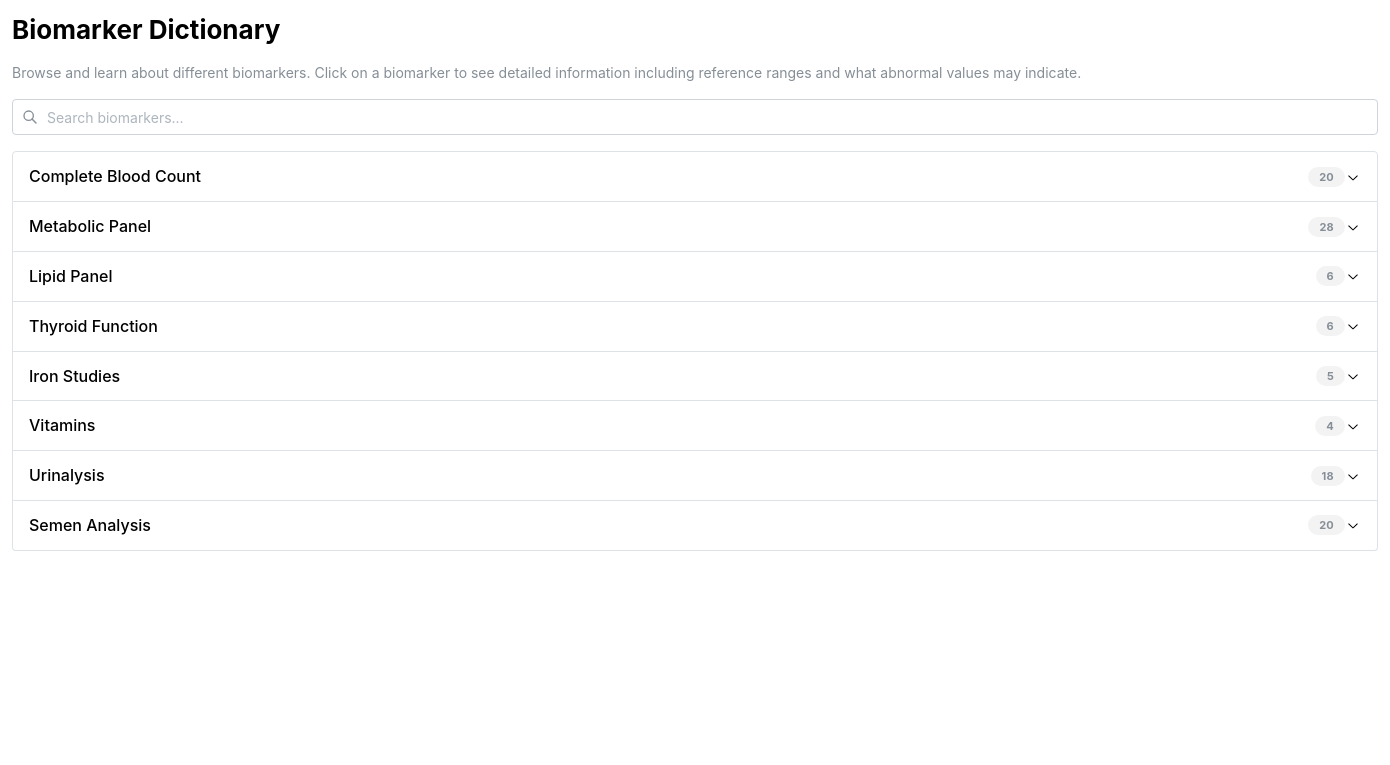
Test case: BiomarkerDictionary › category browsing › should expand category when clicked
# Click on CBC category
Click the text "Complete Blood Count" at (115, 177), box [29,164,201,189]
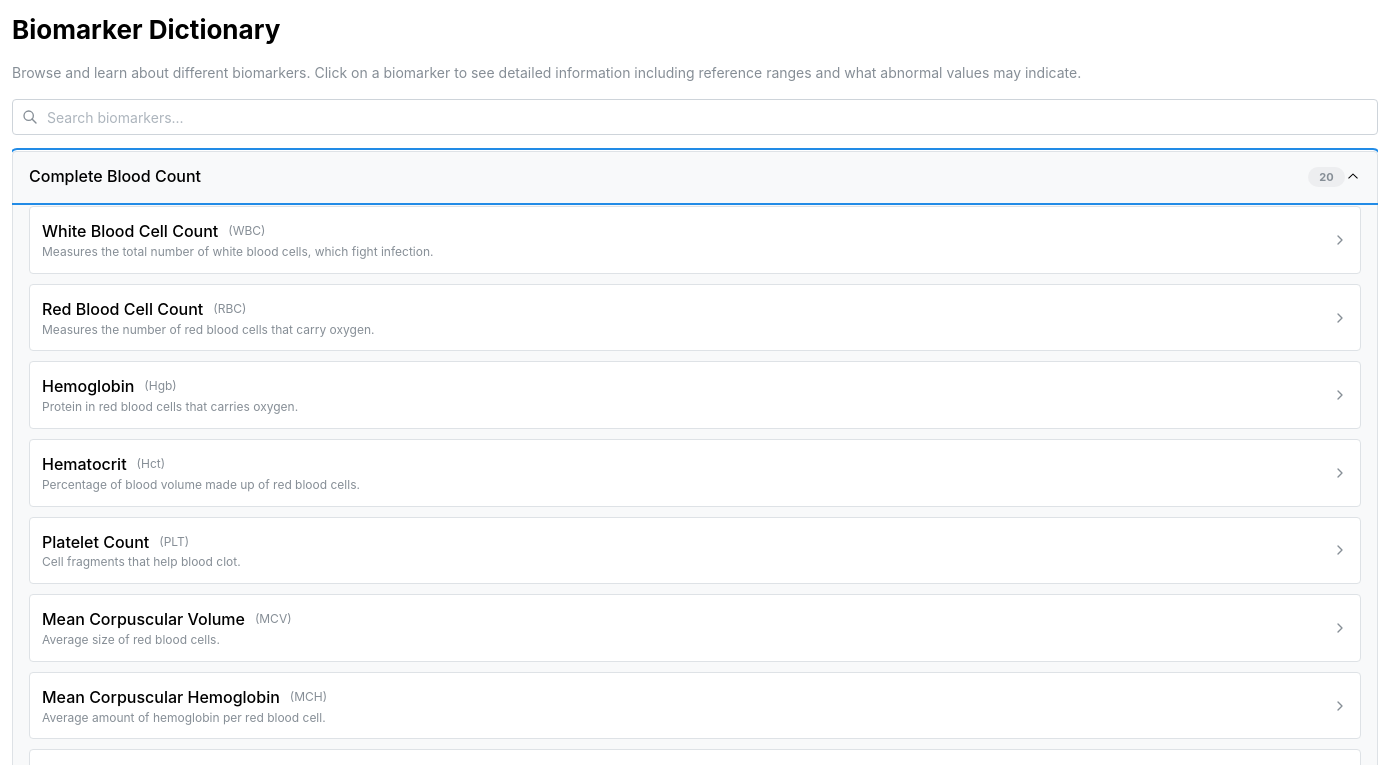
Result: the text "White Blood Cell Count" is shown at [42,219,218,244]
